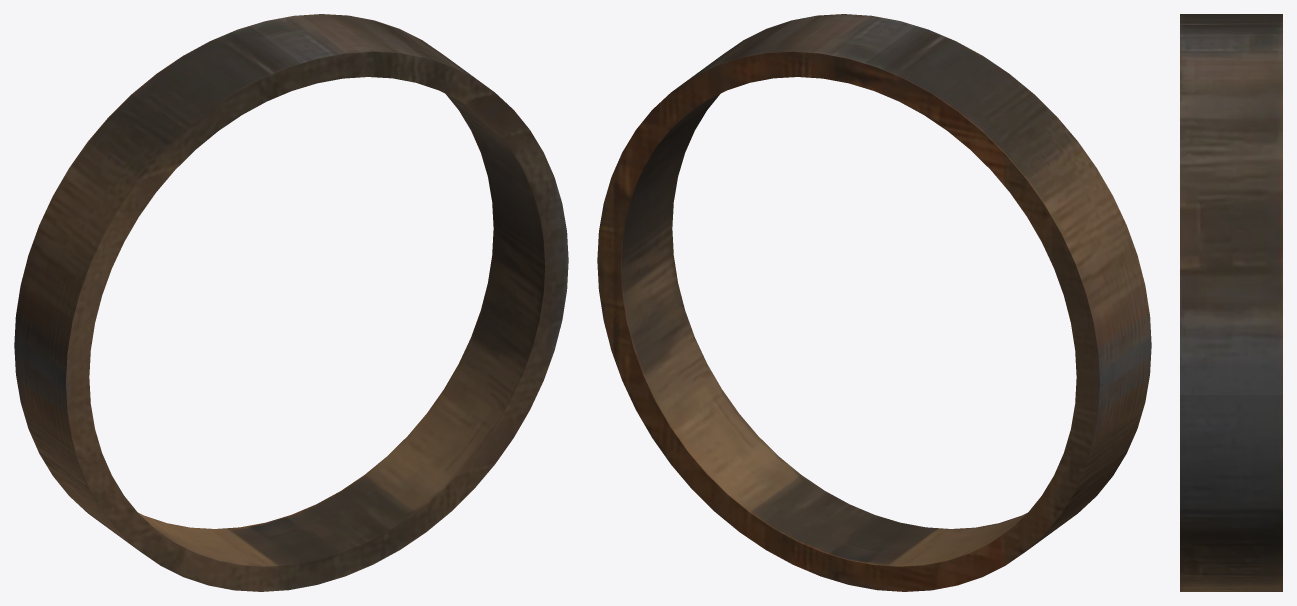
The model's file is shroud__bezel_left.glb.
The picture shows the model from 3 angles, left to right: view 1: azimuth 30°, elevation 25°; view 2: azimuth 150°, elevation 25°; view 3: azimuth 270°, elevation 25°; orthographic projection.
Visible parts, largest first — view 1: geometry_0; view 2: geometry_0; view 3: geometry_0.
Part boxes in pixels (left/top/right/bottom): geometry_0: left=14, top=14, right=568, bottom=591; geometry_0: left=597, top=14, right=1151, bottom=591; geometry_0: left=1180, top=14, right=1282, bottom=591.
Bounding box in the file's own units: 0.09 × 0.09 × 0.016.
Materials: 1 (1 with a texture image).
